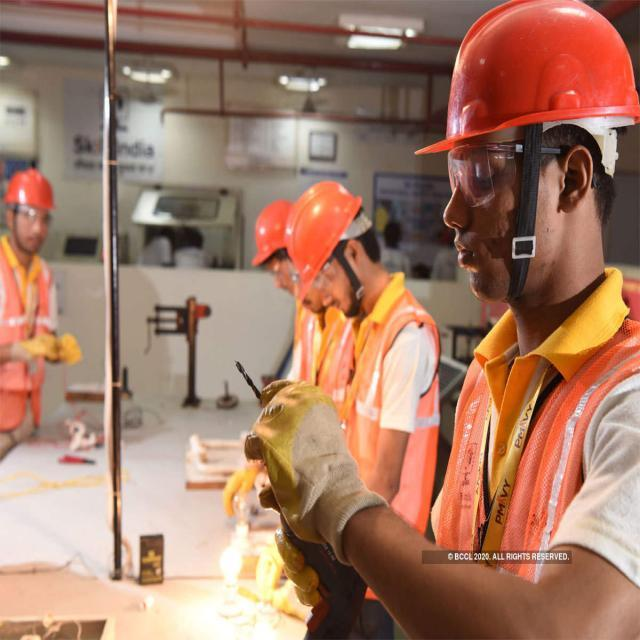reflective_jacket: (429, 279, 638, 639), (290, 272, 442, 546), (0, 236, 66, 436)
safety_helmet: (414, 0, 639, 163), (280, 175, 374, 301), (246, 187, 298, 275), (0, 162, 61, 220)
